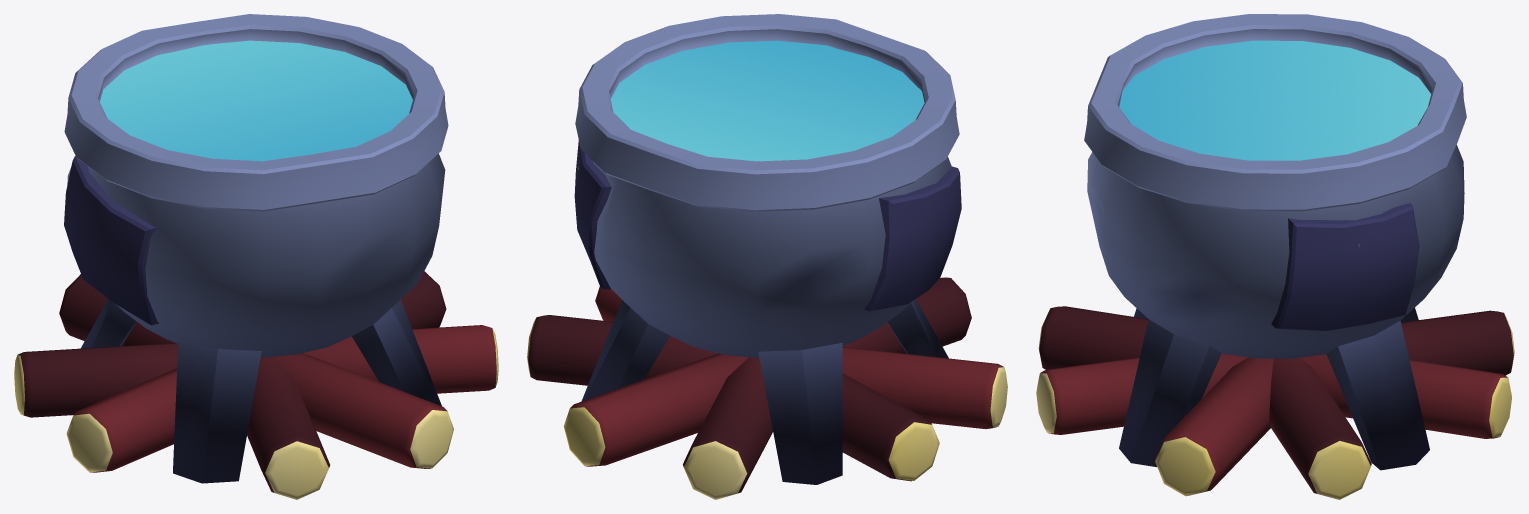
File: Cauldron_03.fbx
The picture shows the model from 3 angles, left to right: view 1: azimuth 30°, elevation 25°; view 2: azimuth 150°, elevation 25°; view 3: azimuth 270°, elevation 25°; orthographic projection.
Visible parts, largest first — view 1: polySurface322, polySurface59, Cauldron_State_1_GEO, polySurface324; view 2: polySurface322, polySurface59, Cauldron_State_1_GEO, polySurface324, polySurface323; view 3: polySurface322, polySurface59, Cauldron_State_1_GEO, polySurface323.
Boxes of the visible parts, box(x1,y1,x2,y2) form: polySurface322: box(64, 14, 448, 483); polySurface59: box(14, 271, 498, 499); Cauldron_State_1_GEO: box(100, 40, 412, 161); polySurface324: box(64, 156, 158, 325); polySurface322: box(575, 14, 959, 484); polySurface59: box(527, 277, 1007, 499); Cauldron_State_1_GEO: box(610, 40, 924, 161); polySurface324: box(864, 166, 961, 311); polySurface323: box(574, 140, 611, 289); polySurface322: box(1084, 14, 1466, 470); polySurface59: box(1036, 306, 1514, 499); Cauldron_State_1_GEO: box(1119, 40, 1430, 160); polySurface323: box(1271, 203, 1419, 330).
Bounding box in the file's own units: 2.01 × 1.44 × 2.
